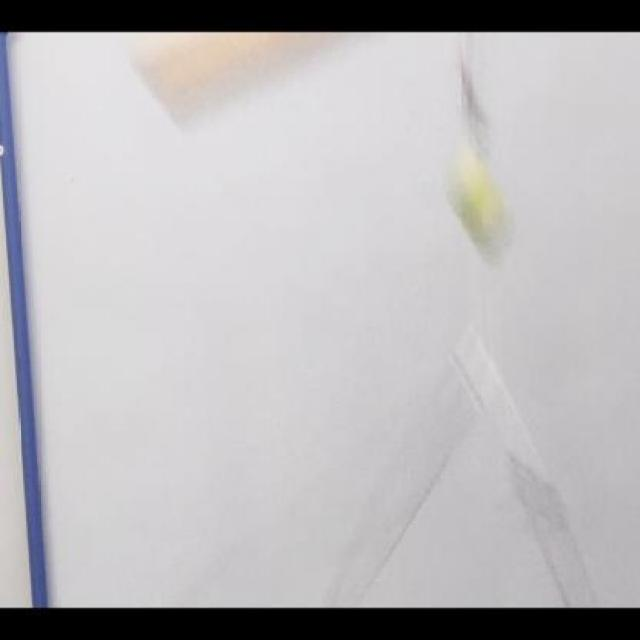baseball: (443, 138, 514, 270)
